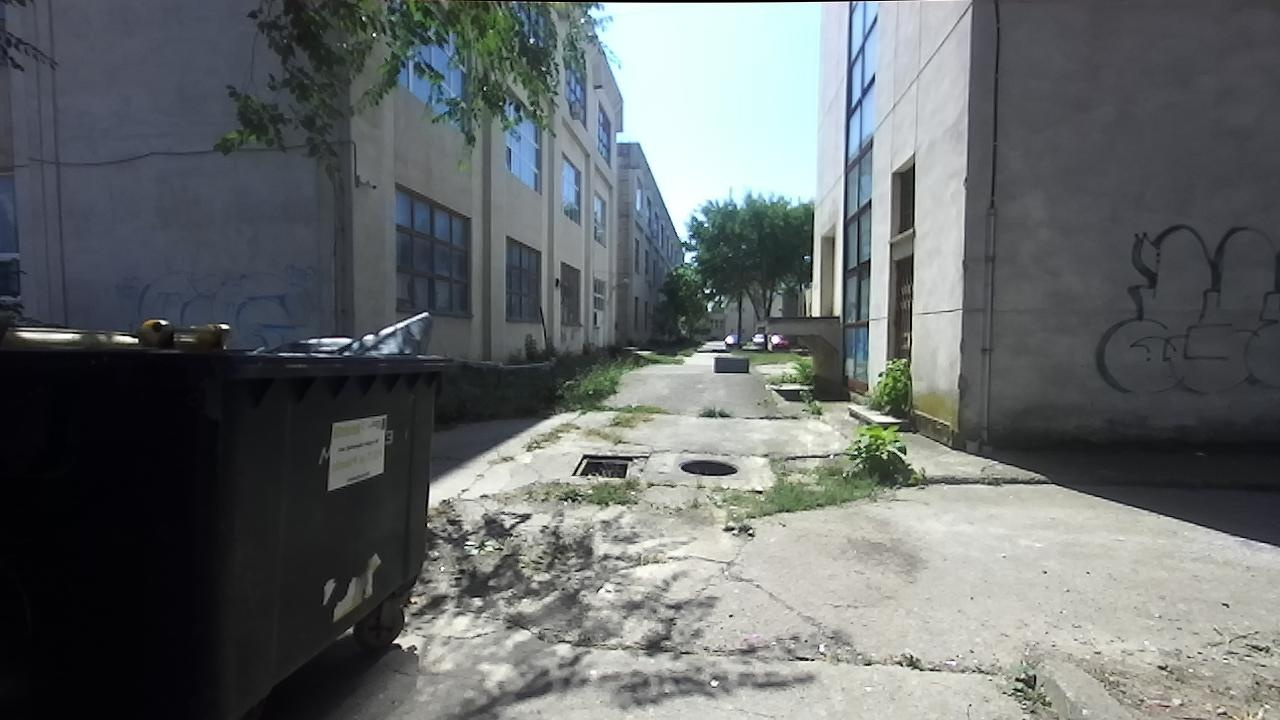drain: (564, 452, 633, 484), (671, 454, 740, 479)
